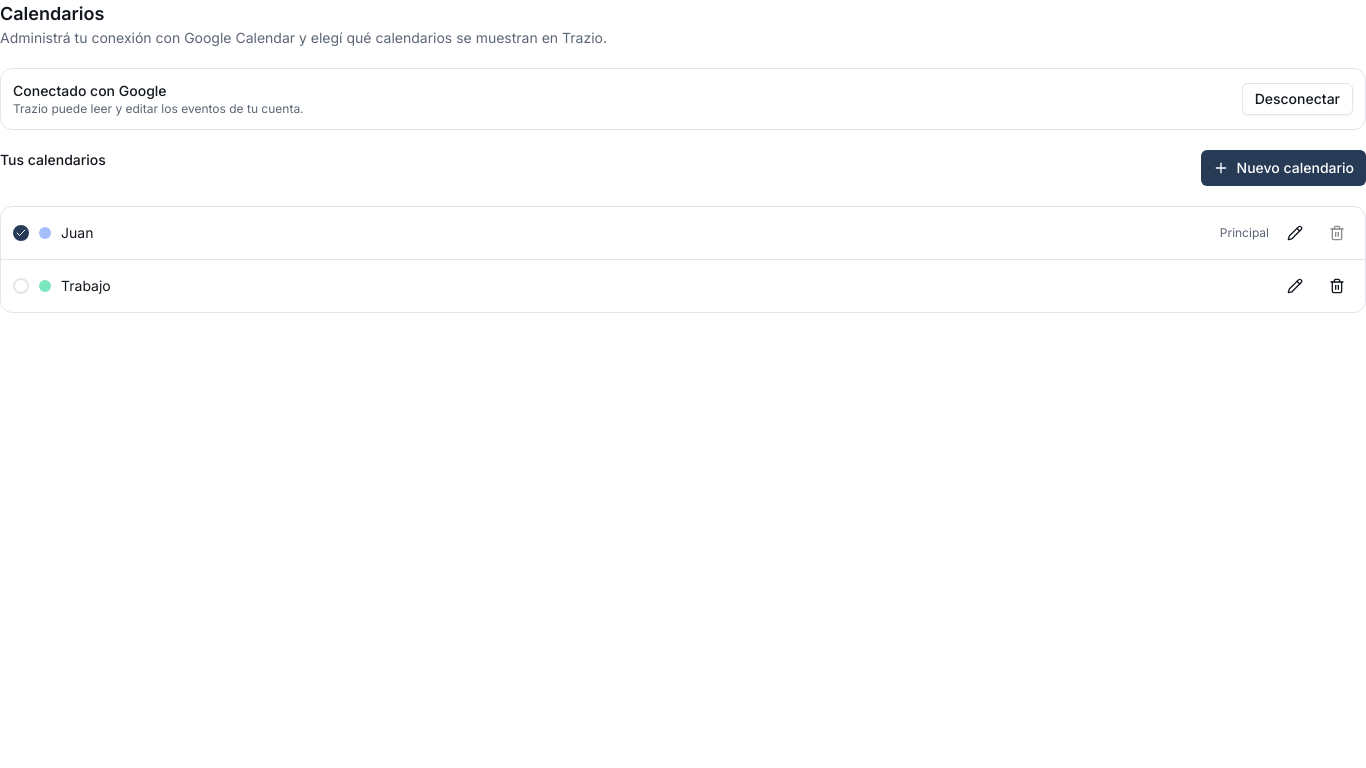
Test: CalendarsSection (tarea 4.2) › crear un calendario no deja mandar un nombre vacío
Click the button "Nuevo calendario".
click(1283, 168)  # box x1=1201 y1=150 x2=1365 y2=186
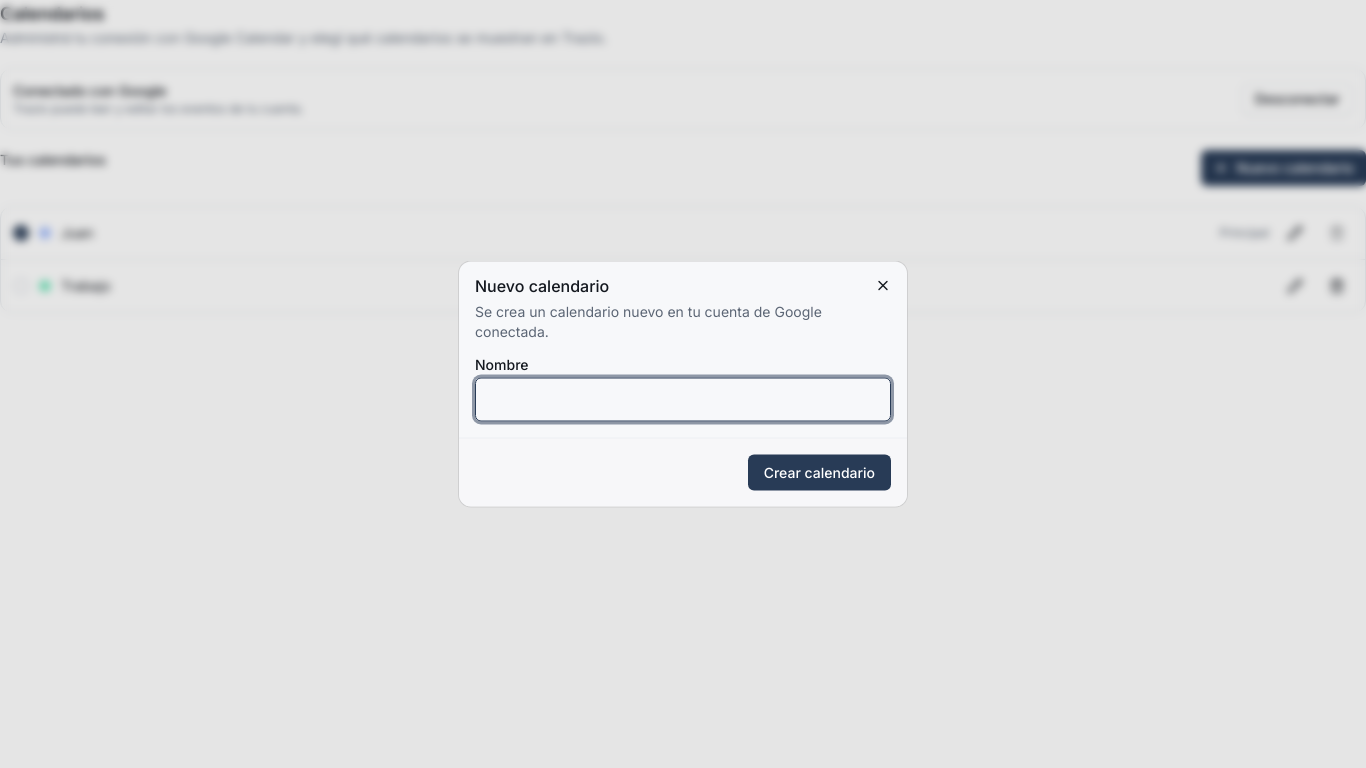
Click the button "Crear calendario".
click(819, 472)  # box x1=748 y1=454 x2=891 y2=490
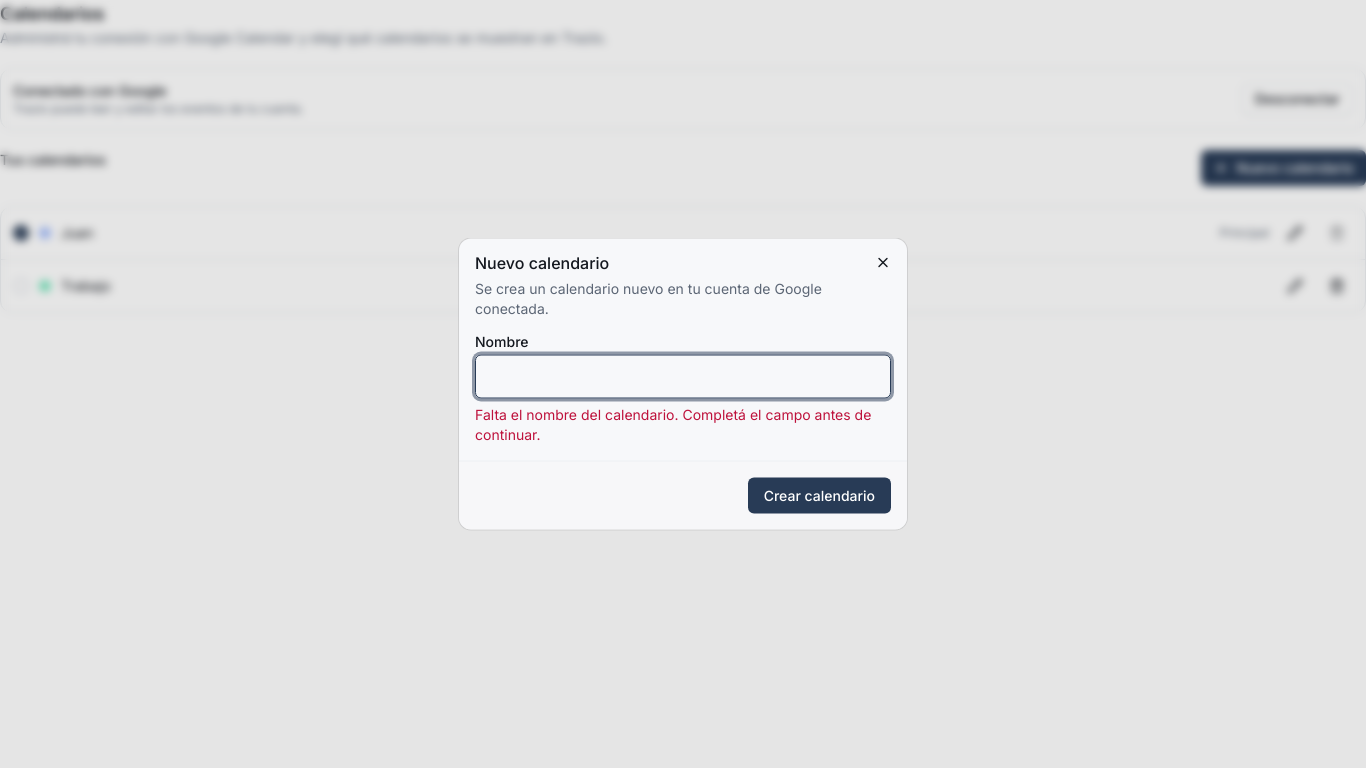
Check: the text "Falta el nombre del calendario. Completá el campo antes de continuar." is shown, box x1=475 y1=404 x2=891 y2=444
